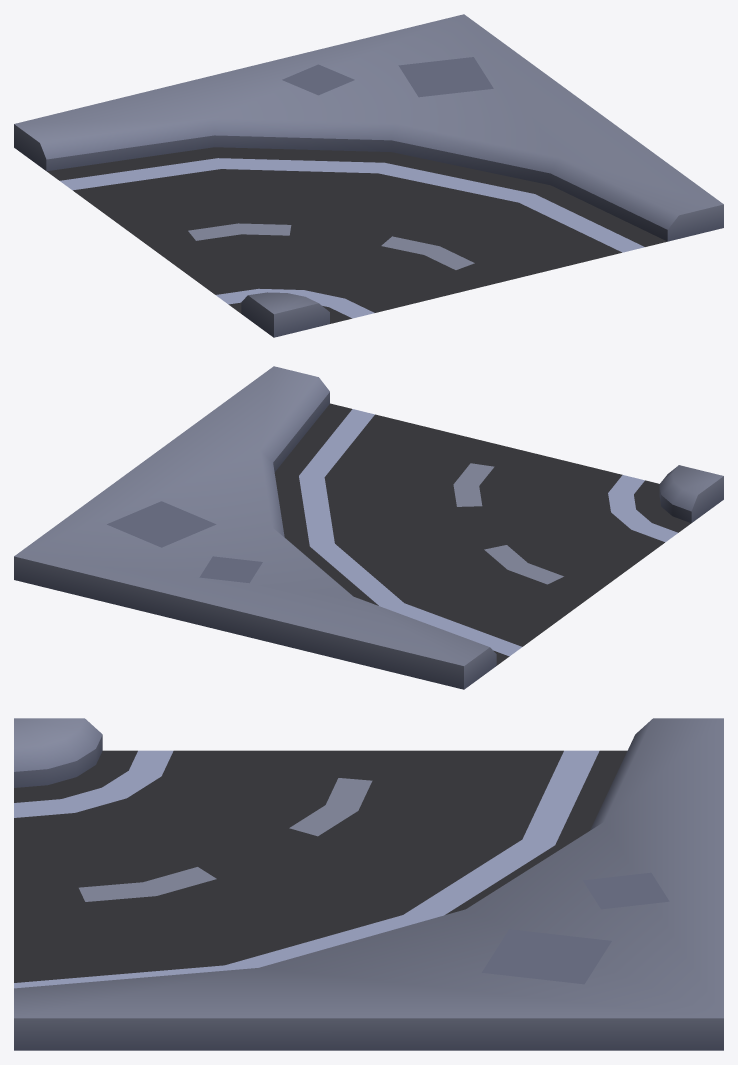
The model's file is road-corner.glb.
3 renders of one model, top to bottom at view 1: azimuth 30°, elevation 25°; view 2: azimuth 150°, elevation 25°; view 3: azimuth 270°, elevation 25°, orthographic. The views are drawn at different scales.
Parts seen in each view (by area): view 1: road-corner; view 2: road-corner; view 3: road-corner.
Boxes of the visible parts, <box> form: road-corner: <box>14,14,723,337</box>; road-corner: <box>14,366,723,689</box>; road-corner: <box>14,718,723,1050</box>.
Bounding box in the file's own units: 1 × 0.06 × 1.
1 material, 1 textured.
